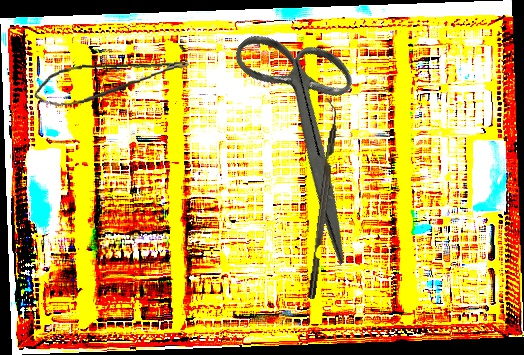Chopper: (298, 97, 343, 300)
Iris Scissors: (174, 2, 444, 266)
Micro Scissor: (31, 55, 192, 110)
